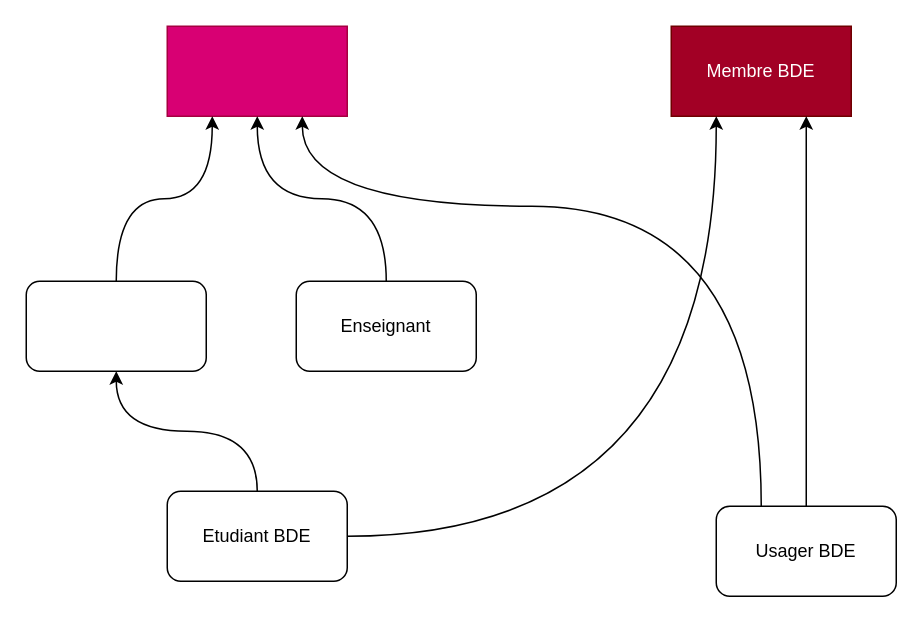
This 923x623 diagram has some shape labels left out. The shapes that lost their labels are listed below. From the top down, each one's centre as x and y in pixels, then its label:
the point at 256,70: Personne
the point at 115,325: Etudiant
